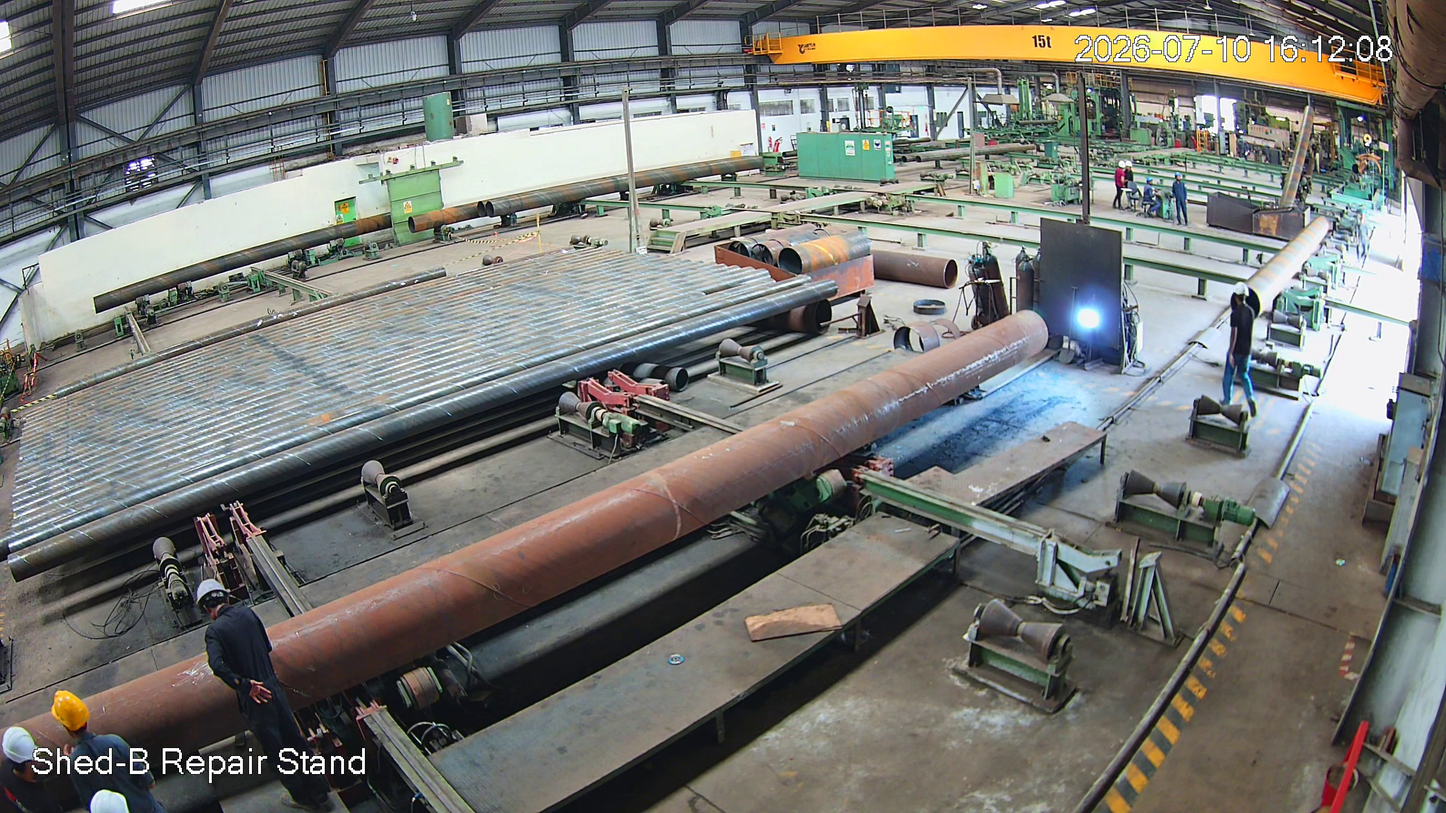Helmet: (45, 679, 104, 758), (193, 579, 257, 645), (1230, 277, 1253, 318)
Person: (203, 575, 318, 813), (59, 676, 153, 813), (1226, 279, 1262, 423)
